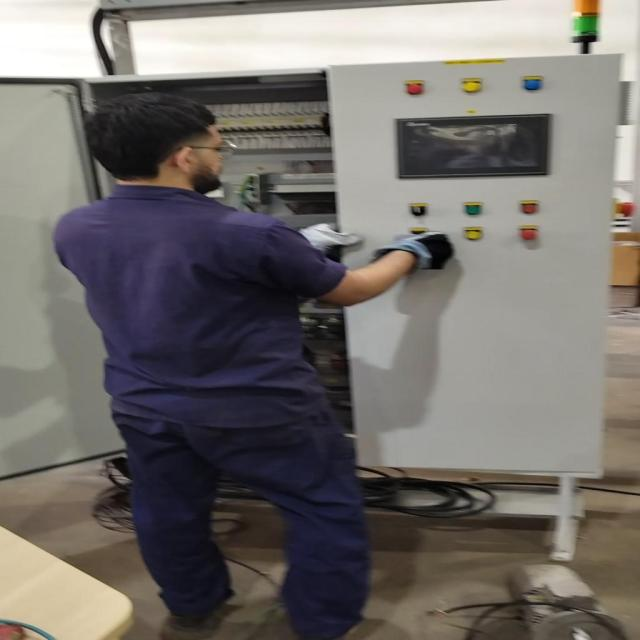Gloves-Detection: (372, 233, 466, 266), (296, 219, 348, 250)
